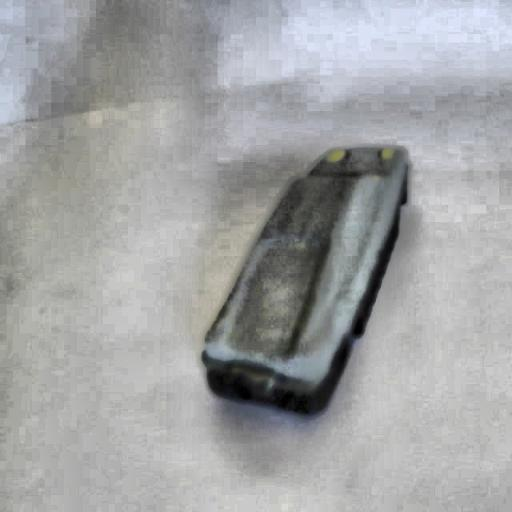normal_car: (189, 135, 420, 427)
